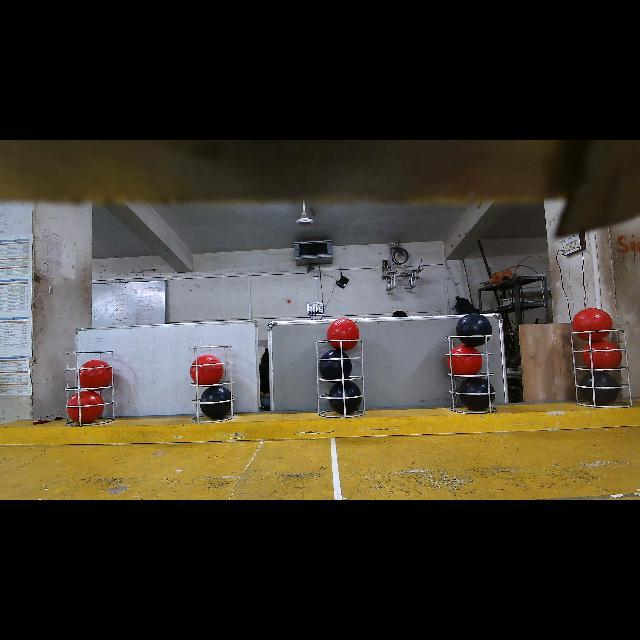P: (580, 371, 620, 405), (456, 314, 492, 348), (459, 377, 495, 411), (328, 381, 362, 415), (200, 386, 234, 419), (319, 350, 352, 383)
R: (572, 308, 612, 342), (581, 340, 622, 369), (68, 391, 104, 423), (190, 355, 224, 387), (447, 345, 482, 375), (328, 319, 360, 350), (80, 360, 112, 391)
S: (572, 326, 634, 409), (312, 339, 370, 421), (444, 335, 500, 415), (64, 350, 118, 428), (189, 342, 239, 426)
